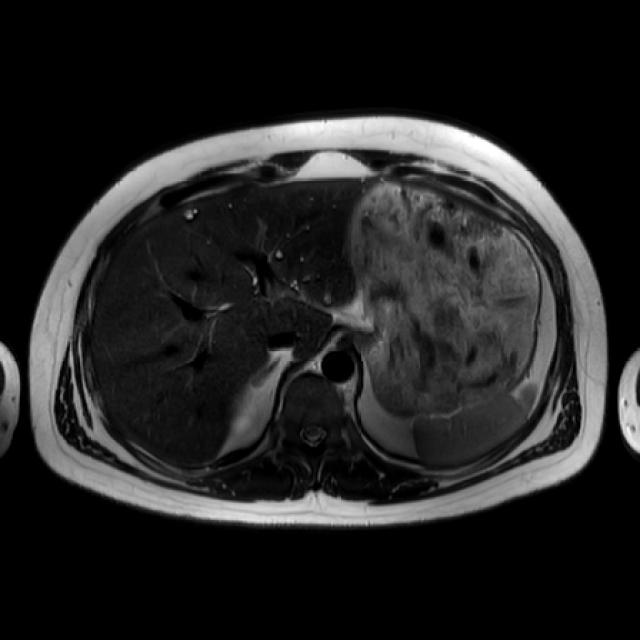sag: (237, 405, 259, 437)
